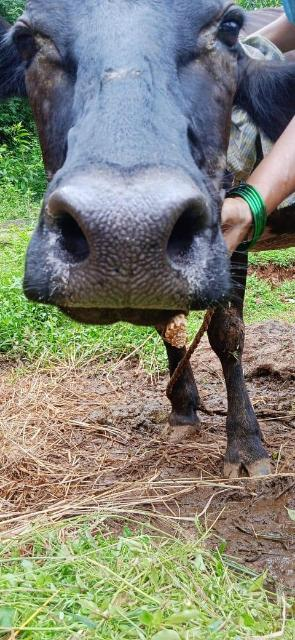Muzzle: (63, 190, 185, 308)
